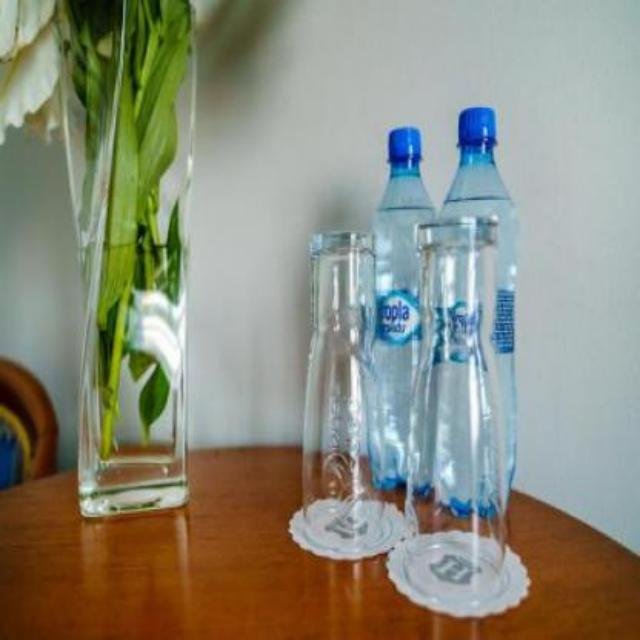bottle: (356, 112, 442, 502), (449, 96, 499, 528)
